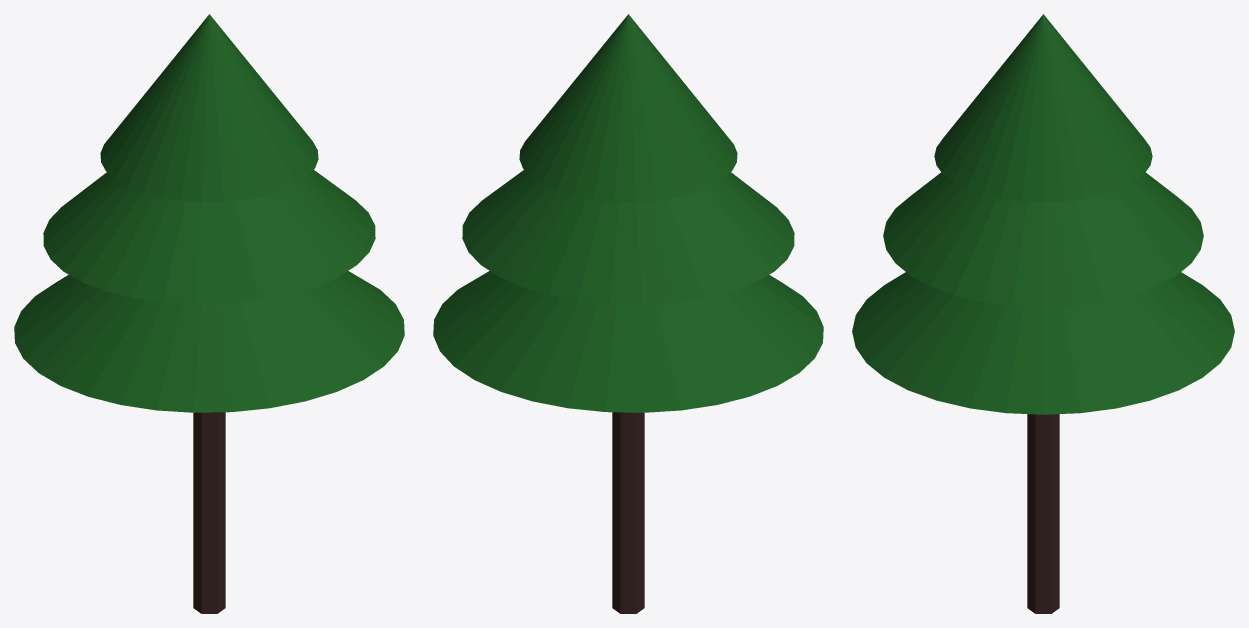
Rendered from PineTree.fbx.
The picture shows the model from 3 angles, left to right: view 1: azimuth 30°, elevation 25°; view 2: azimuth 150°, elevation 25°; view 3: azimuth 270°, elevation 25°; orthographic projection.
Visible parts, largest first — view 1: Cone.002; view 2: Cone.002; view 3: Cone.002.
Boxes of the visible parts, box(x1,y1,x2,y2) form: Cone.002: box(14, 14, 404, 613); Cone.002: box(433, 14, 823, 613); Cone.002: box(852, 14, 1234, 613).
Bounding box in the file's own units: 724 × 1203 × 703.
